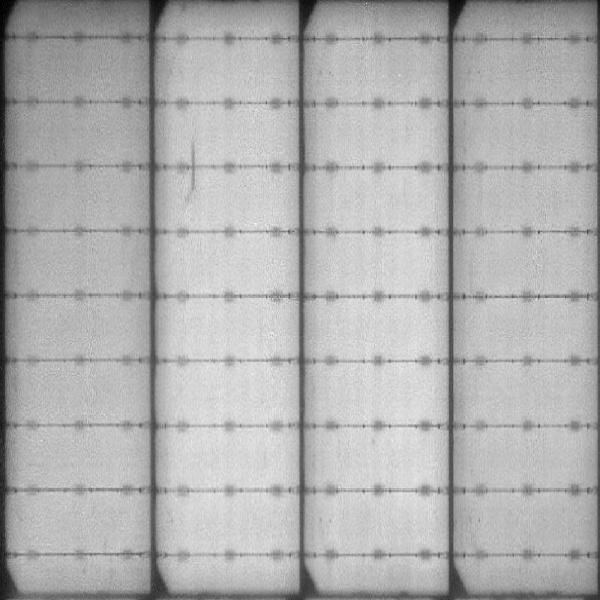scratch: (183, 142, 199, 195)
